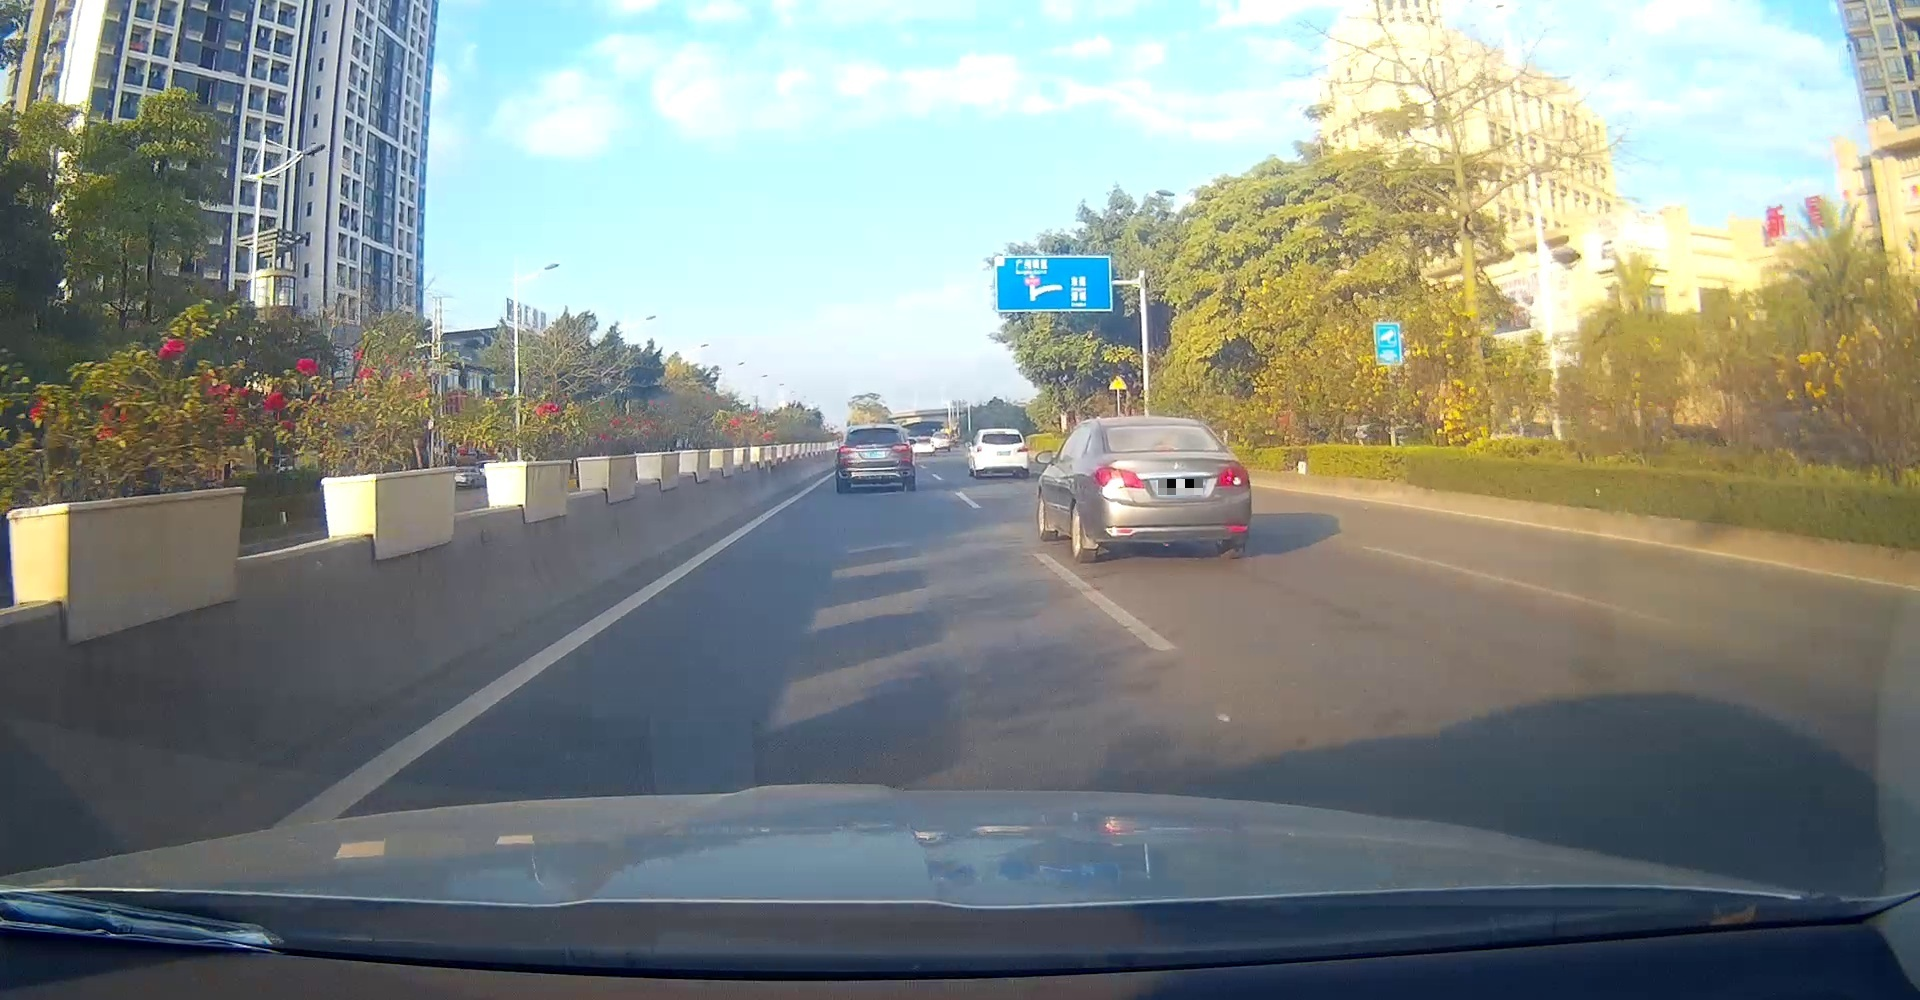L_light: (1095, 466, 1144, 489), (839, 445, 851, 456), (977, 445, 983, 452)
R_light: (1217, 461, 1250, 487), (891, 442, 910, 452), (1016, 444, 1029, 452)
T_light: (1156, 445, 1176, 451), (869, 429, 877, 431), (996, 431, 1004, 433)
day-no: (1090, 418, 1251, 562), (838, 424, 913, 492), (974, 429, 1029, 478)
plate_1: (1158, 478, 1203, 495)
